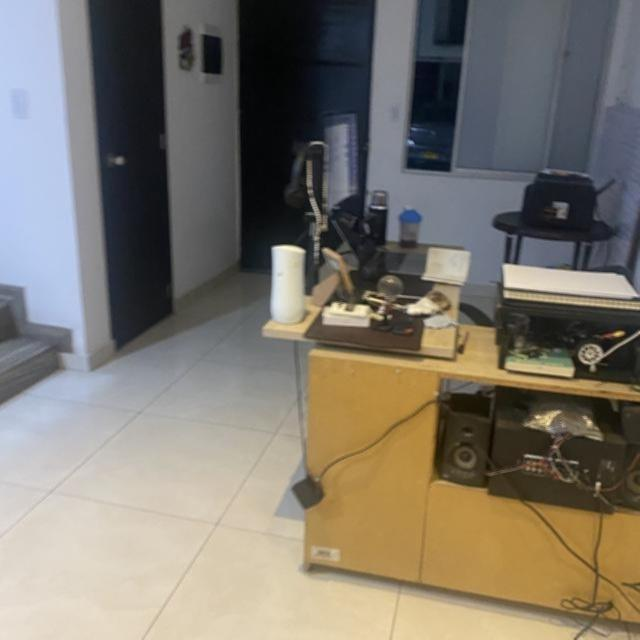obstacle: (272, 114, 634, 631)
stair: (0, 264, 80, 421)
